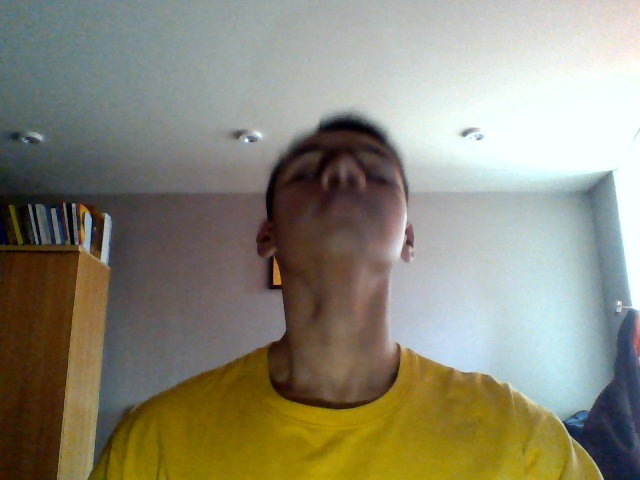no_mask: (258, 148, 416, 265)
